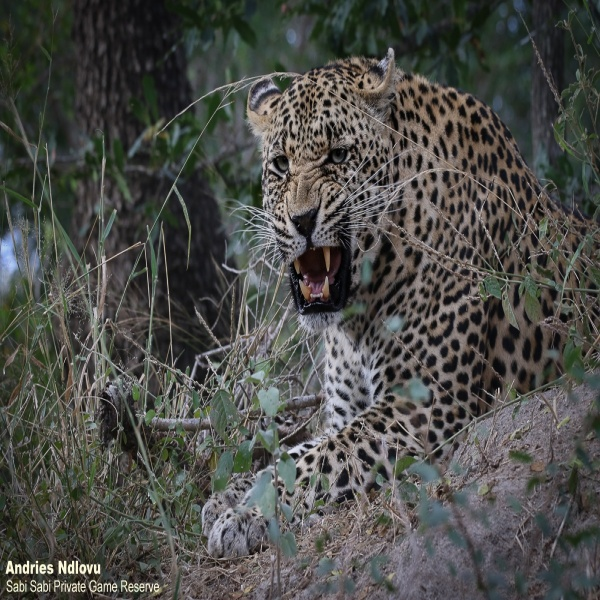Leopard: (195, 47, 600, 563)
